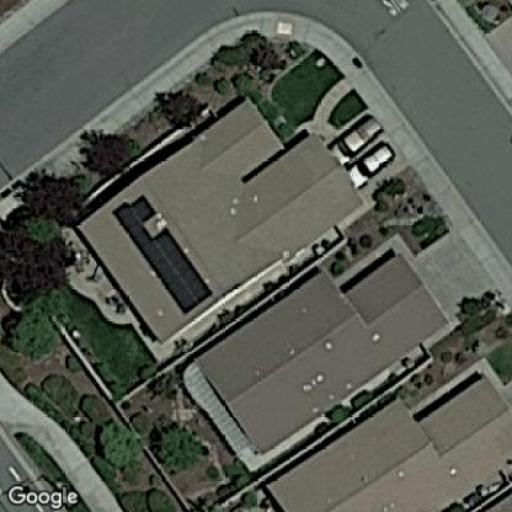solar-panel: (112, 191, 214, 317)
